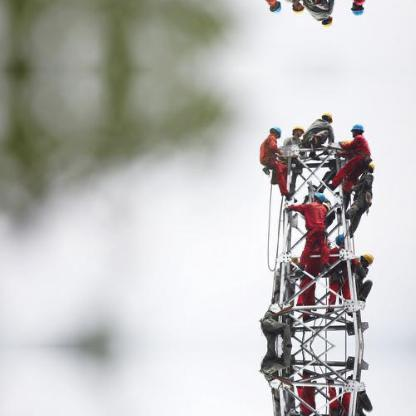helmet: (358, 249, 374, 268), (309, 190, 328, 205), (349, 120, 365, 136), (266, 0, 282, 16), (349, 0, 365, 16), (267, 121, 282, 138), (289, 122, 306, 137), (289, 0, 306, 15), (319, 108, 333, 122), (319, 14, 333, 28), (362, 159, 376, 172)
